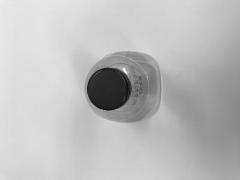plastic: (37, 34, 203, 142)
